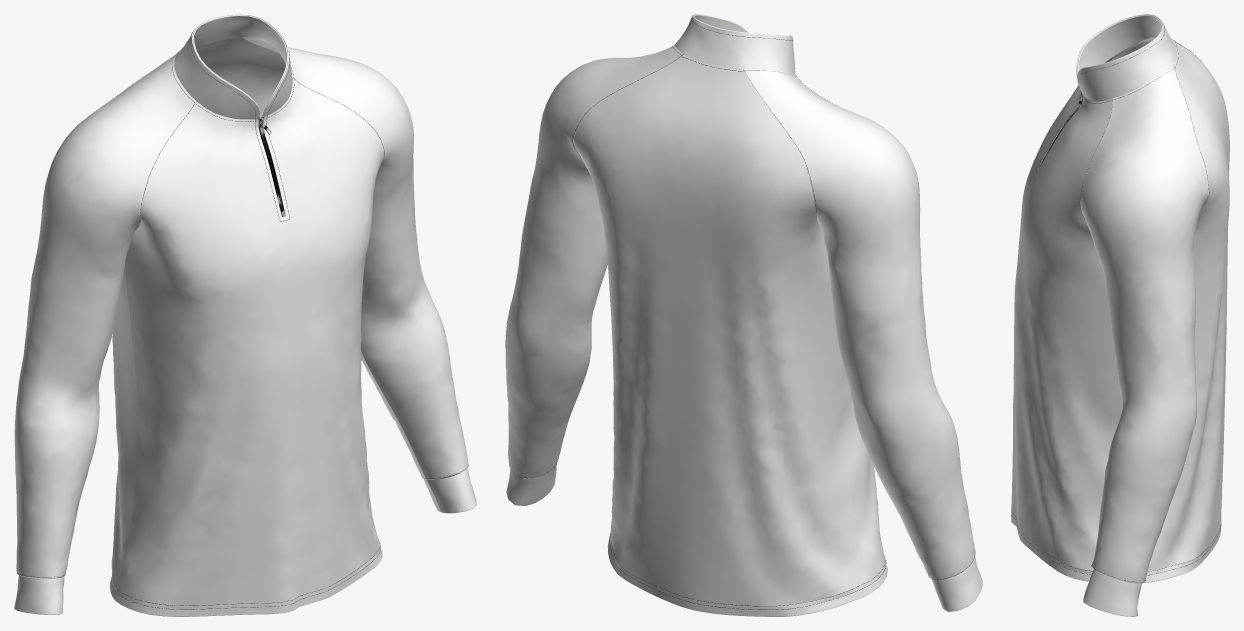
The model's file is shirt.glb.
The picture shows the model from 3 angles, left to right: view 1: azimuth 30°, elevation 25°; view 2: azimuth 150°, elevation 25°; view 3: azimuth 270°, elevation 25°; orthographic projection. The views are drawn at different scales.
Parts seen in each view (by area): view 1: Cloth, BindedTrim_138727; view 2: Cloth; view 3: Cloth, BindedTrim_138727.
Part boxes in pixels (<box>): Cloth: <box>14,14,476,616</box>; BindedTrim_138727: <box>111,38,380,609</box>; Cloth: <box>505,14,982,616</box>; Cloth: <box>1011,14,1229,616</box>; BindedTrim_138727: <box>1011,42,1221,575</box>.
Size of the model in its own units: 0.644 by 0.7365 by 0.2878.
Materials: 3 (3 with a texture image).
